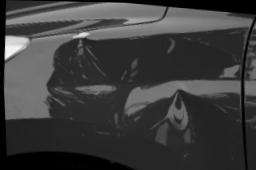Fender: (11, 2, 256, 170)
